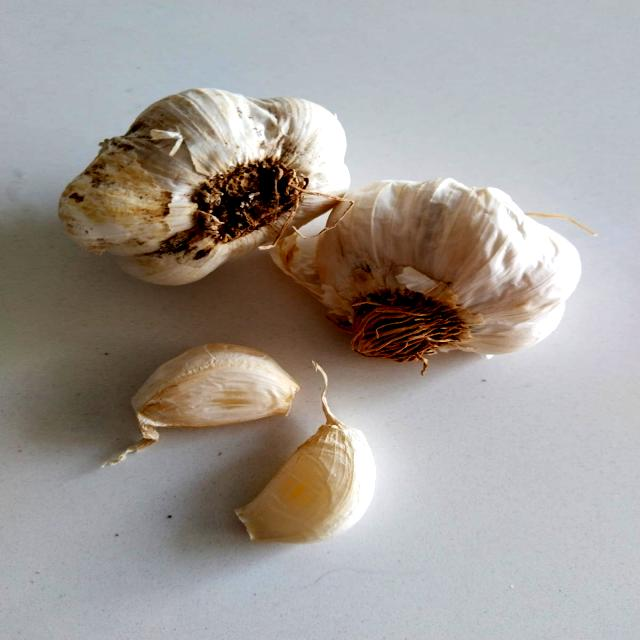garlic: (31, 64, 356, 280), (297, 173, 594, 367), (182, 395, 422, 551), (107, 323, 312, 434)
